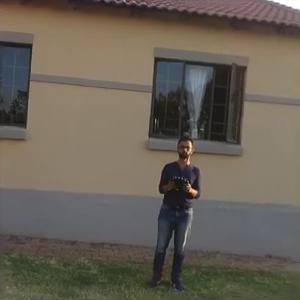follow: (148, 131, 204, 296)
